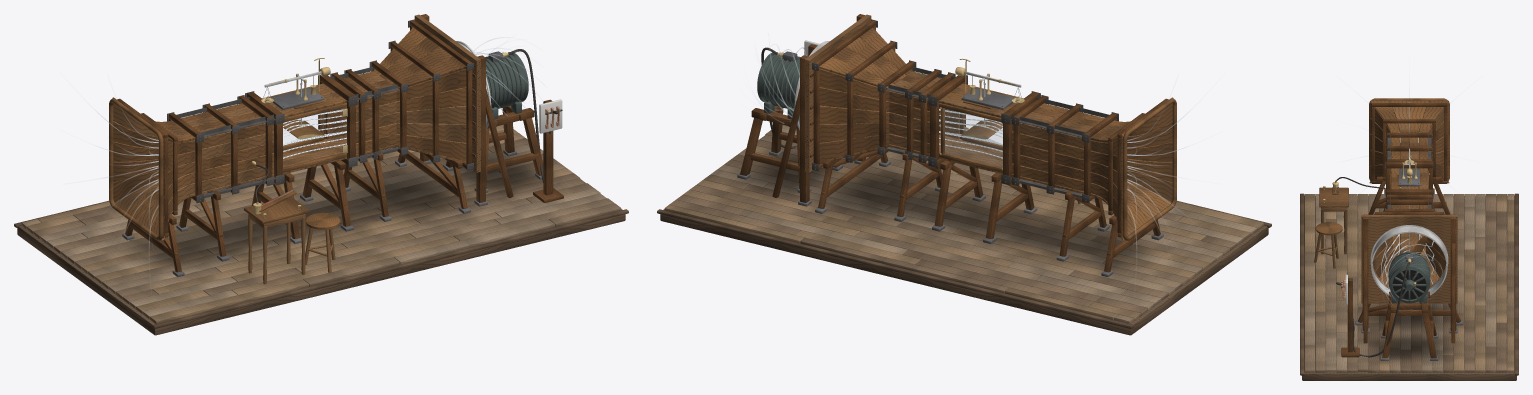
Rendered from zhukovsky-truba.glb.
3 views of the same model, side by side, from view 1: azimuth 30°, elevation 25°; view 2: azimuth 150°, elevation 25°; view 3: azimuth 270°, elevation 25° (orthographic). The views are drawn at different scales.
Parts seen in each view (by area): view 1: pol-laboratorii-pol-3, kanal-truby-sosna-rebro, pol-laboratorii-pol-2, pol-laboratorii-pol-1, pol-laboratorii-ten-pod-truboj, kanal-truby-sosna-2, pol-laboratorii-cokol, kanal-truby-sosna-1, pol-laboratorii-pol-4, kanal-truby-sosna-3, ventilyator-sosna-rebro, rabochaya-chast-sosna-rebro (+11 smaller); view 2: pol-laboratorii-pol-3, pol-laboratorii-ten-pod-truboj, pol-laboratorii-pol-4, pol-laboratorii-pol-1, kanal-truby-sosna-rebro, kanal-truby-sosna-2, kanal-truby-sosna-3, pol-laboratorii-pol-2, pol-laboratorii-cokol, rabochaya-chast-sosna-rebro, kanal-truby-sosna-1, ventilyator-sosna-rebro (+8 smaller); view 3: pol-laboratorii-pol-3, pol-laboratorii-pol-4, pol-laboratorii-cokol, pol-laboratorii-pol-2, pol-laboratorii-pol-1, kanal-truby-sosna-rebro, ventilyator-sosna-rebro, ventilyator-sosna-1, pol-laboratorii-ten-pod-truboj, kanal-truby-sosna-2, kanal-truby-sosna-3, kanal-truby-sosna-1 (+15 smaller).
Boxes of the visible parts, x1=… form: pol-laboratorii-pol-3: x1=26, y1=124, x2=572, y2=323; kanal-truby-sosna-rebro: x1=117, y1=20, x2=472, y2=272; pol-laboratorii-pol-2: x1=21, y1=163, x2=621, y2=298; pol-laboratorii-pol-1: x1=40, y1=144, x2=605, y2=319; pol-laboratorii-ten-pod-truboj: x1=131, y1=149, x2=542, y2=268; kanal-truby-sosna-2: x1=112, y1=37, x2=466, y2=201; pol-laboratorii-cokol: x1=14, y1=179, x2=628, y2=335; kanal-truby-sosna-1: x1=113, y1=75, x2=466, y2=238; pol-laboratorii-pol-4: x1=33, y1=129, x2=593, y2=303; kanal-truby-sosna-3: x1=109, y1=27, x2=466, y2=240; ventilyator-sosna-rebro: x1=420, y1=14, x2=563, y2=202; rabochaya-chast-sosna-rebro: x1=247, y1=75, x2=355, y2=238; pol-laboratorii-pol-3: x1=664, y1=146, x2=1264, y2=320; pol-laboratorii-ten-pod-truboj: x1=739, y1=149, x2=1154, y2=268; pol-laboratorii-pol-4: x1=669, y1=130, x2=1236, y2=315; pol-laboratorii-pol-1: x1=710, y1=124, x2=1257, y2=310; kanal-truby-sosna-rebro: x1=813, y1=20, x2=1168, y2=272; kanal-truby-sosna-2: x1=819, y1=27, x2=1172, y2=238; kanal-truby-sosna-3: x1=819, y1=57, x2=1176, y2=240; pol-laboratorii-pol-2: x1=738, y1=135, x2=1229, y2=323; pol-laboratorii-cokol: x1=657, y1=135, x2=1271, y2=335; rabochaya-chast-sosna-rebro: x1=930, y1=75, x2=1038, y2=238; kanal-truby-sosna-1: x1=889, y1=71, x2=1172, y2=240; ventilyator-sosna-rebro: x1=740, y1=14, x2=865, y2=202; pol-laboratorii-pol-3: x1=1304, y1=194, x2=1514, y2=372; pol-laboratorii-pol-4: x1=1326, y1=194, x2=1514, y2=372; pol-laboratorii-cokol: x1=1300, y1=193, x2=1518, y2=380; pol-laboratorii-pol-2: x1=1304, y1=194, x2=1514, y2=372; pol-laboratorii-pol-1: x1=1304, y1=194, x2=1496, y2=372; kanal-truby-sosna-rebro: x1=1358, y1=103, x2=1460, y2=322; ventilyator-sosna-rebro: x1=1341, y1=216, x2=1456, y2=358; ventilyator-sosna-1: x1=1361, y1=215, x2=1457, y2=303; pol-laboratorii-ten-pod-truboj: x1=1368, y1=234, x2=1450, y2=361; kanal-truby-sosna-2: x1=1370, y1=100, x2=1448, y2=286; kanal-truby-sosna-3: x1=1369, y1=98, x2=1449, y2=259; kanal-truby-sosna-1: x1=1370, y1=100, x2=1449, y2=270.
Size of the model in its own units: 5.2 by 3.09 by 2.67.
24 materials, 19 textured.
